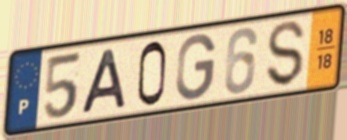0: (136, 38, 168, 109)
5: (41, 49, 84, 122)
6: (222, 25, 259, 96)
A: (79, 46, 129, 116)
G: (174, 31, 219, 103)
S: (265, 19, 307, 89)
